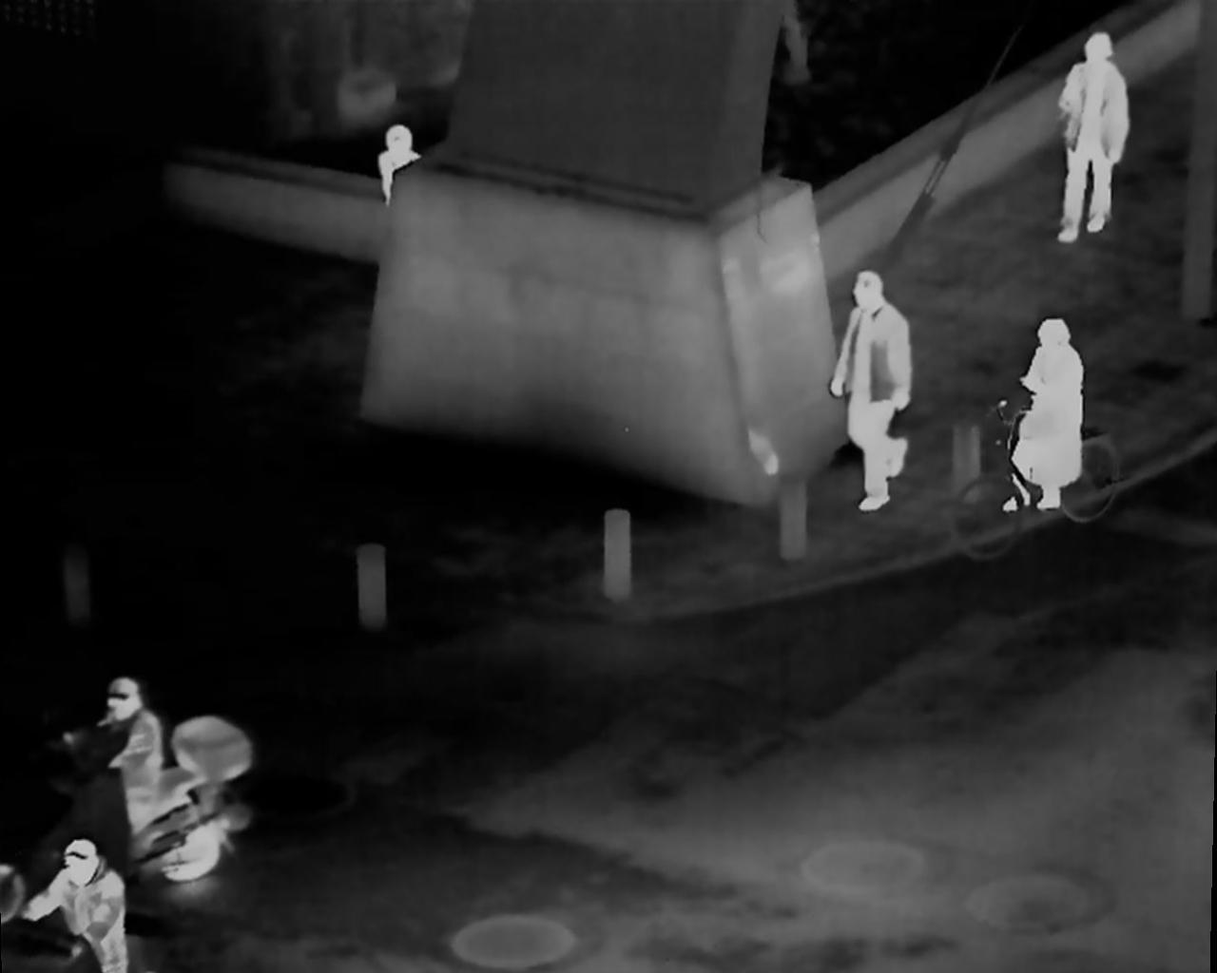person: (816, 269, 918, 529), (1049, 31, 1139, 240), (1009, 319, 1095, 514), (95, 674, 177, 854), (31, 836, 140, 969)
